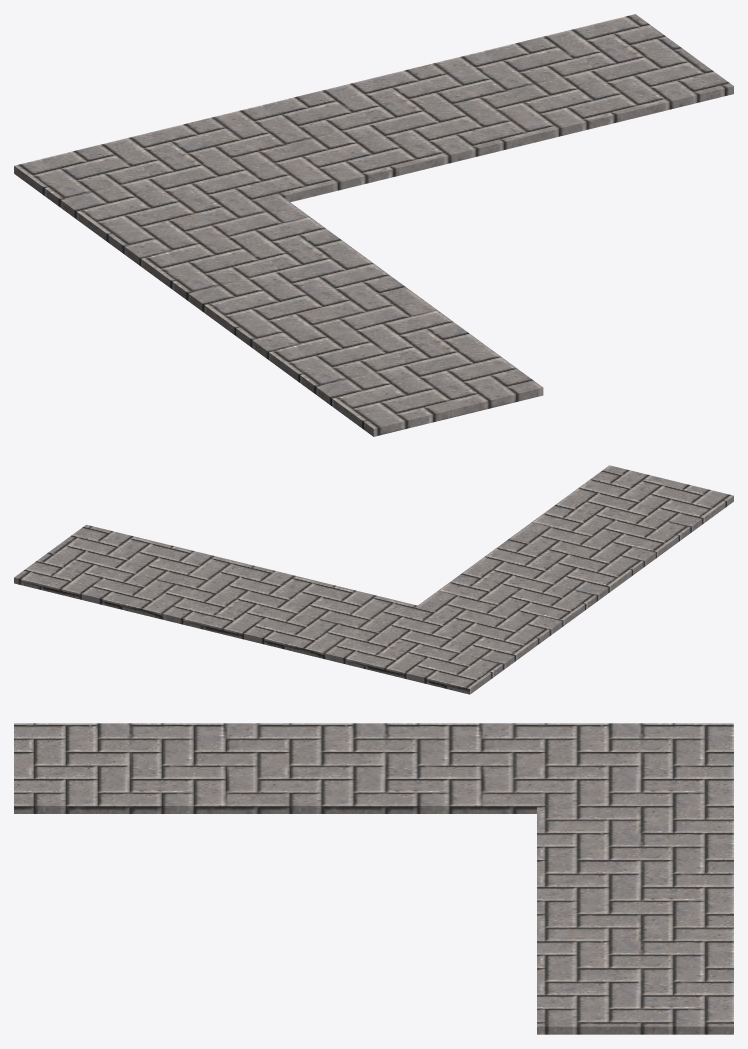
The model's file is sett1_corner.fbx.
3 views of the same model, one above another, from view 1: azimuth 30°, elevation 25°; view 2: azimuth 150°, elevation 25°; view 3: azimuth 270°, elevation 25° (orthographic). The views are drawn at different scales.
Parts seen in each view (by area): view 1: pCube28; view 2: pCube28; view 3: pCube28.
Boxes of the visible parts, x1,y1,x2,y2 form: pCube28: (14,14,733,436); pCube28: (14,465,733,694); pCube28: (14,723,733,1034).
Bounding box in the file's own units: 550 × 6.75 × 551.
